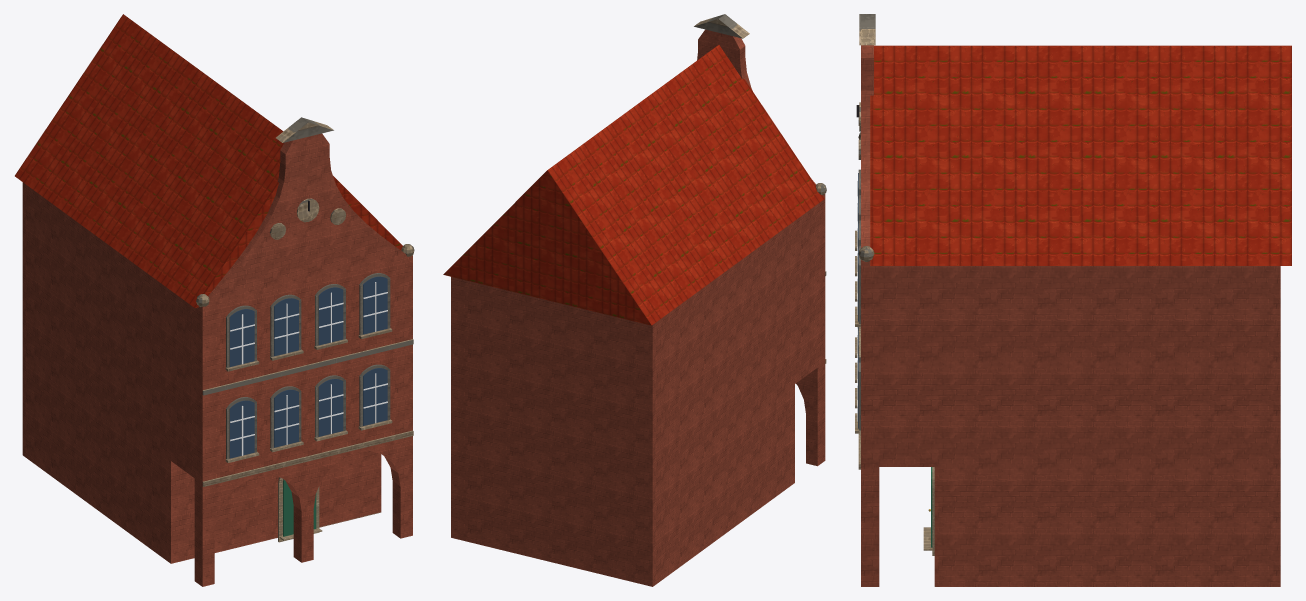
Rendered from hanseatica_w8_1.gltf.
The picture shows the model from 3 angles, left to right: view 1: azimuth 30°, elevation 25°; view 2: azimuth 150°, elevation 25°; view 3: azimuth 270°, elevation 25°; orthographic projection. The views are drawn at different scales.
Visible parts, largest first — view 1: hanseatica_w8_1; view 2: hanseatica_w8_1; view 3: hanseatica_w8_1.
Boxes of the visible parts, x1=… form: hanseatica_w8_1: x1=15, y1=14, x2=414, y2=586; hanseatica_w8_1: x1=443, y1=14, x2=826, y2=586; hanseatica_w8_1: x1=855, y1=14, x2=1291, y2=586.
Size of what is drawn, in the model's own units: 7.96 by 15.51 by 11.86.
Materials: 8 (4 with a texture image).
